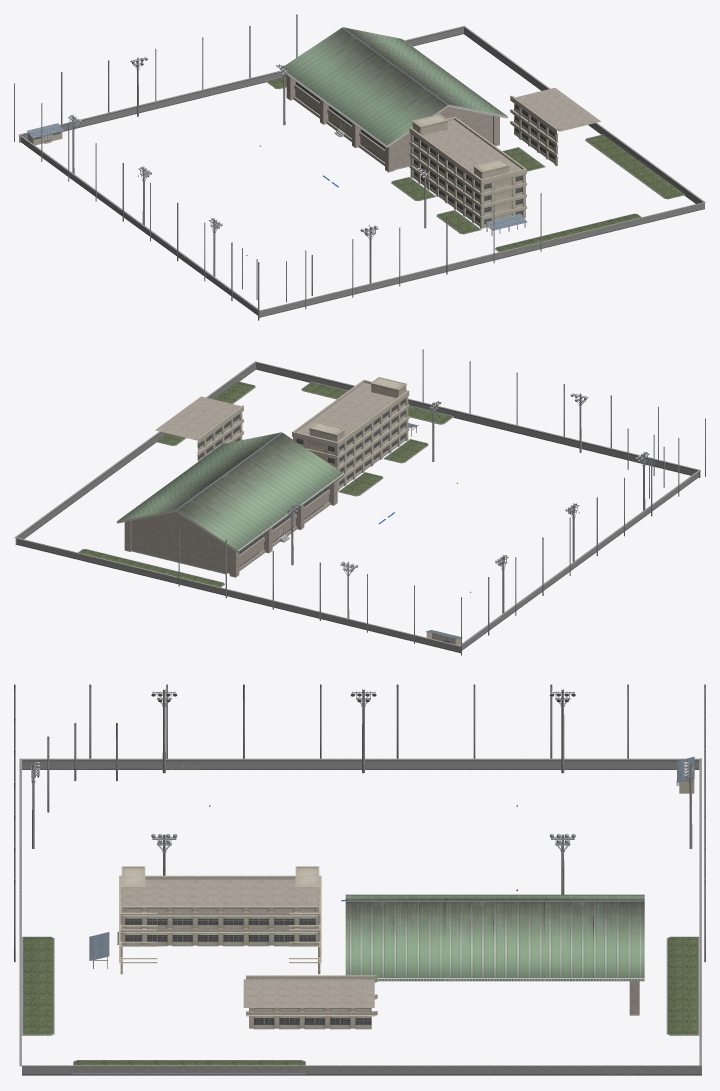
File: st_011_school.fbx
3 renders of one model, top to bottom at view 1: azimuth 30°, elevation 25°; view 2: azimuth 150°, elevation 25°; view 3: azimuth 270°, elevation 25°, orthographic. The views are drawn at different scales.
Parts seen in each view (by area): view 1: st_011_School; view 2: st_011_School; view 3: st_011_School.
Part boxes in pixels (x1=…): st_011_School: x1=14, y1=14, x2=705, y2=320; st_011_School: x1=14, y1=349, x2=705, y2=655; st_011_School: x1=14, y1=684, x2=705, y2=1075.
Bounding box in the file's own units: 258 × 32.38 × 243.
